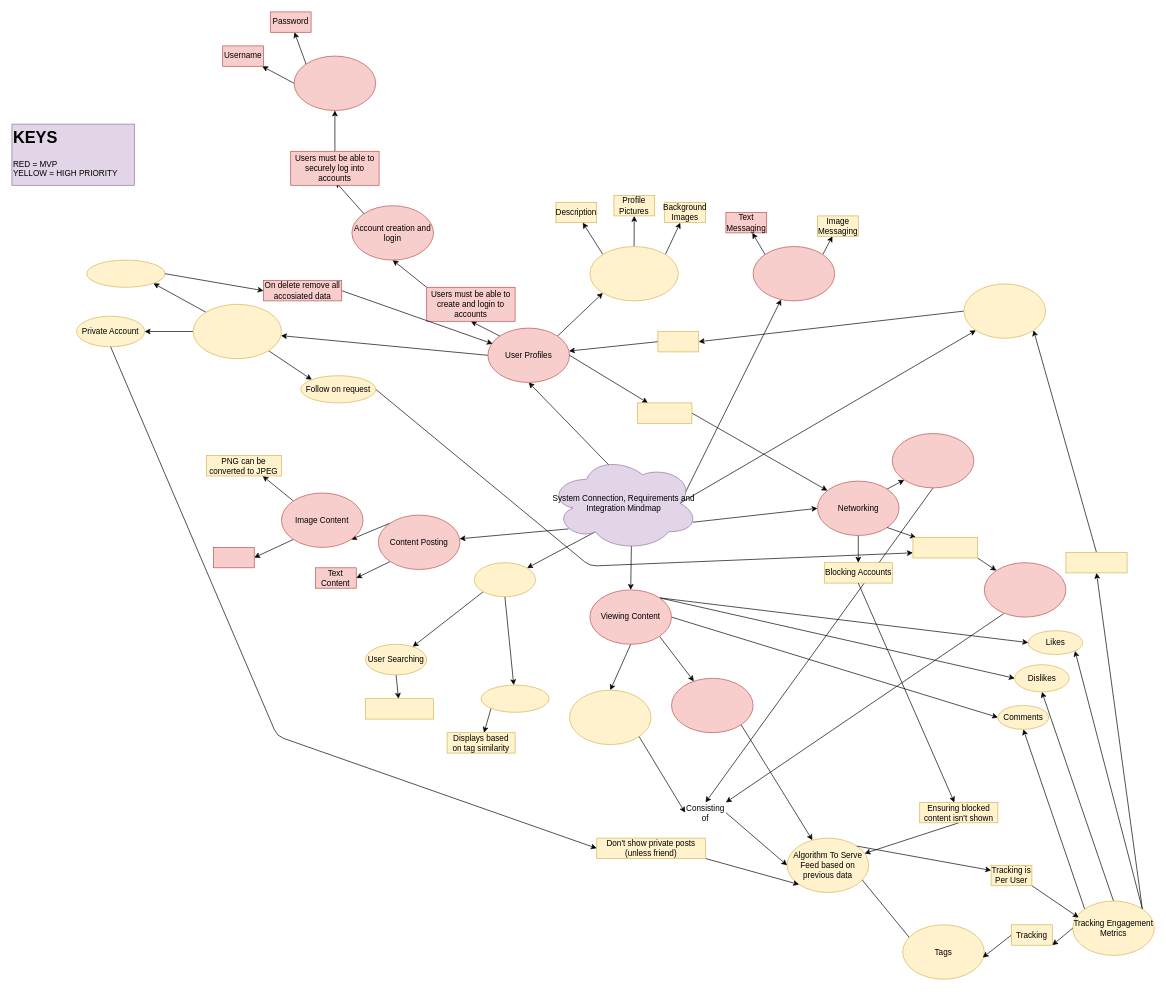
This 1166x997 diagram has some shape labels left out. The box of each missing label's shape, as (x1, y1, x2, y2) in pixels:
Account Login Authentication: (293, 55, 376, 111)
Alerting: (657, 331, 699, 352)
Checking if request needed: (912, 537, 978, 558)
Content Searching: (480, 684, 549, 712)
Delete Account: (86, 259, 165, 287)
Direct Messaging: (752, 246, 835, 301)
Displays based on word similarity: (365, 698, 434, 719)
Feed: (671, 678, 753, 733)
Followers: (984, 562, 1066, 617)
Friends: (892, 433, 974, 488)
JPEG Fileformat: (213, 547, 254, 568)
Notification System: (963, 283, 1046, 338)
Privacy Settings: (192, 304, 282, 359)
Profile Customisation: (589, 246, 678, 301)
Searching: (474, 562, 536, 597)
Storing and Tracking: (637, 402, 692, 423)
Timeline: (569, 690, 651, 745)
Tracks own user posts: (1065, 552, 1127, 573)
